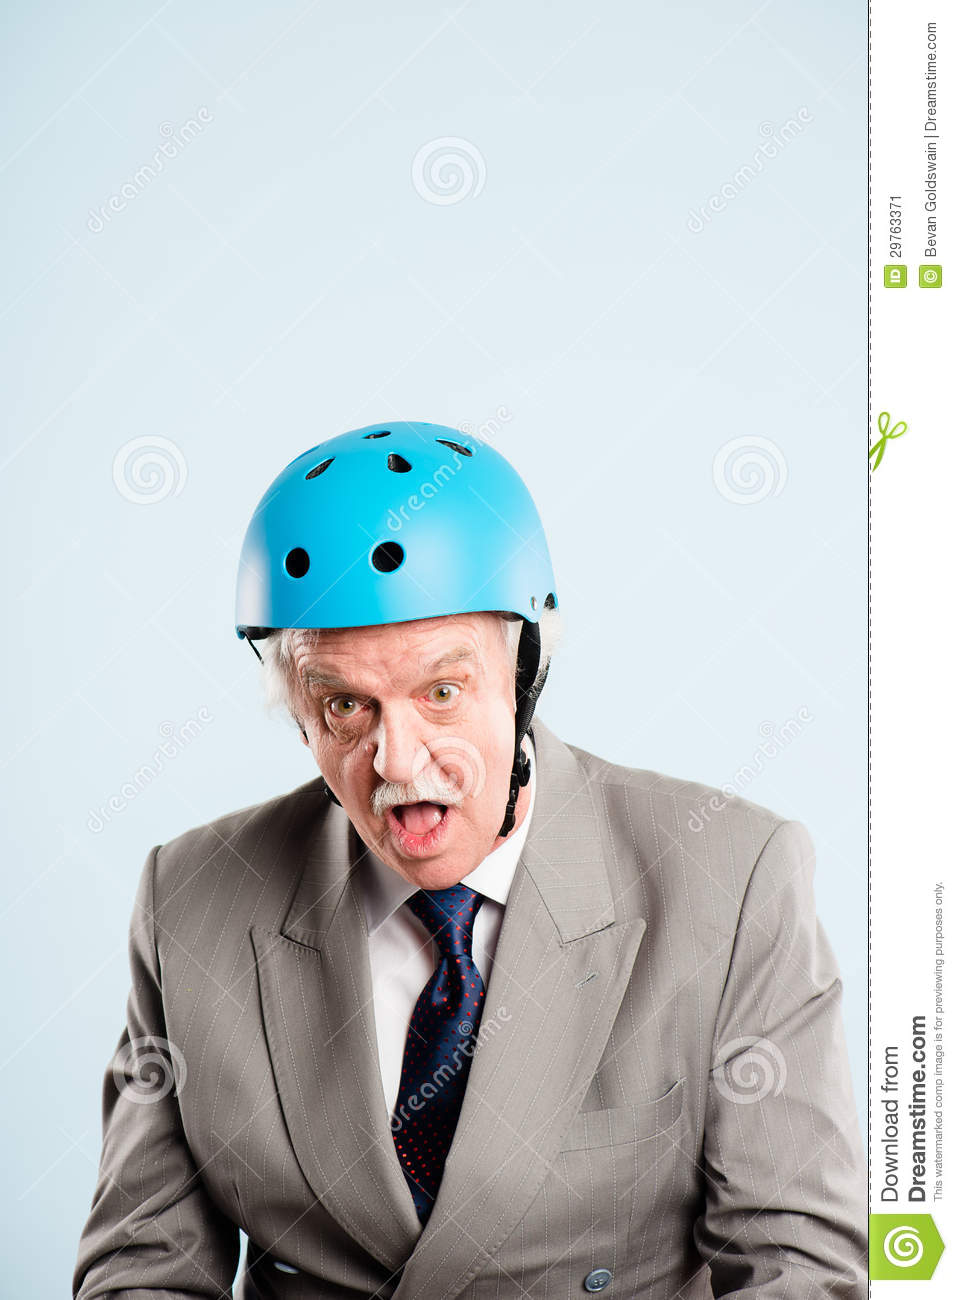helmet: (175, 439, 595, 645)
